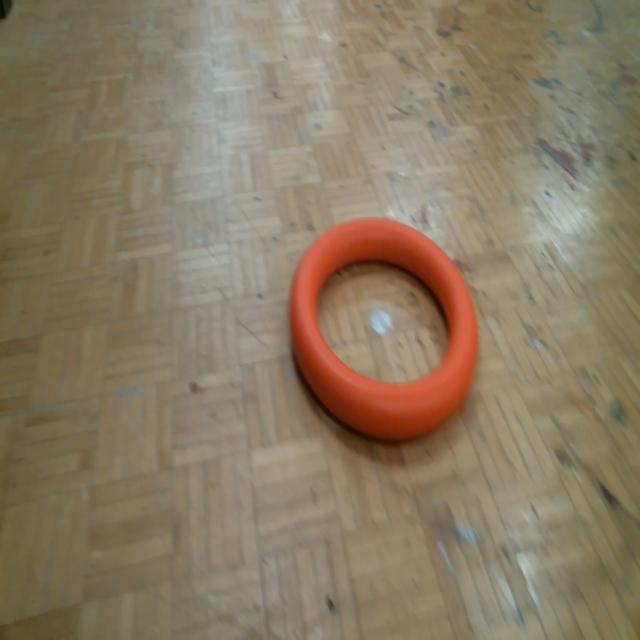note: (287, 213, 481, 445)
